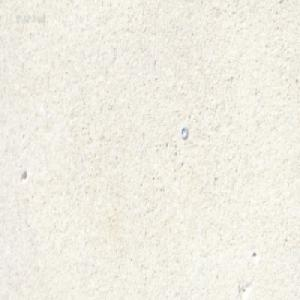Washer: (179, 125, 187, 140)
